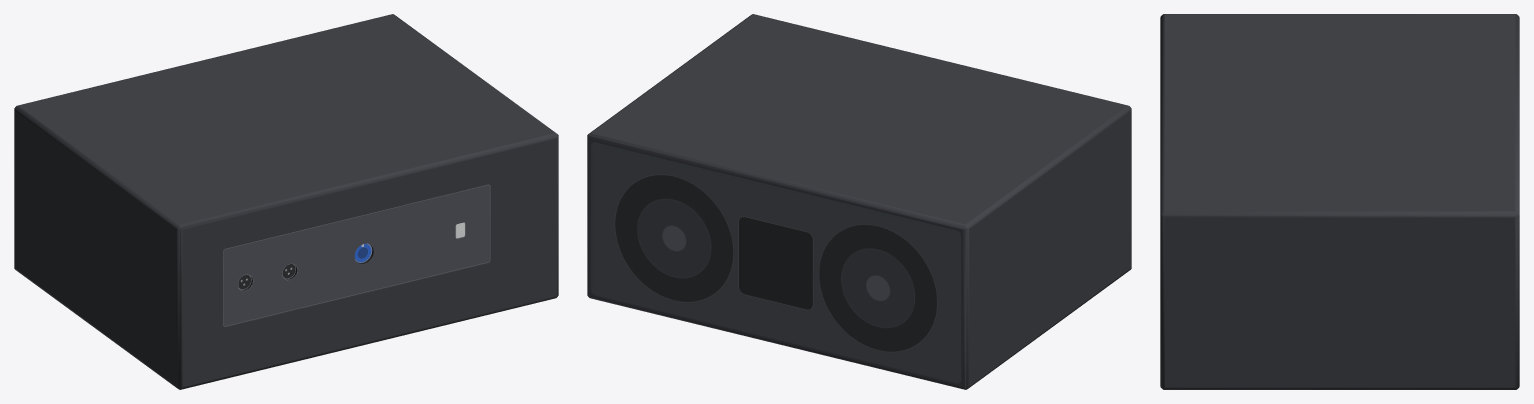
The model's file is meyer-sound-lina.glb.
The picture shows the model from 3 angles, left to right: view 1: azimuth 30°, elevation 25°; view 2: azimuth 150°, elevation 25°; view 3: azimuth 270°, elevation 25°; orthographic projection. The views are drawn at different scales.
Visible parts, largest first — view 1: meyer-sound-lina-body; view 2: meyer-sound-lina-body; view 3: meyer-sound-lina-body.
Part boxes in pixels (box(x1,y1,x2,y2)): meyer-sound-lina-body: box(14, 14, 558, 389); meyer-sound-lina-body: box(587, 14, 1131, 389); meyer-sound-lina-body: box(1160, 14, 1519, 389).
Size of the model in its own units: 0.515 by 0.213 by 0.389.
1 material, 1 textured.
